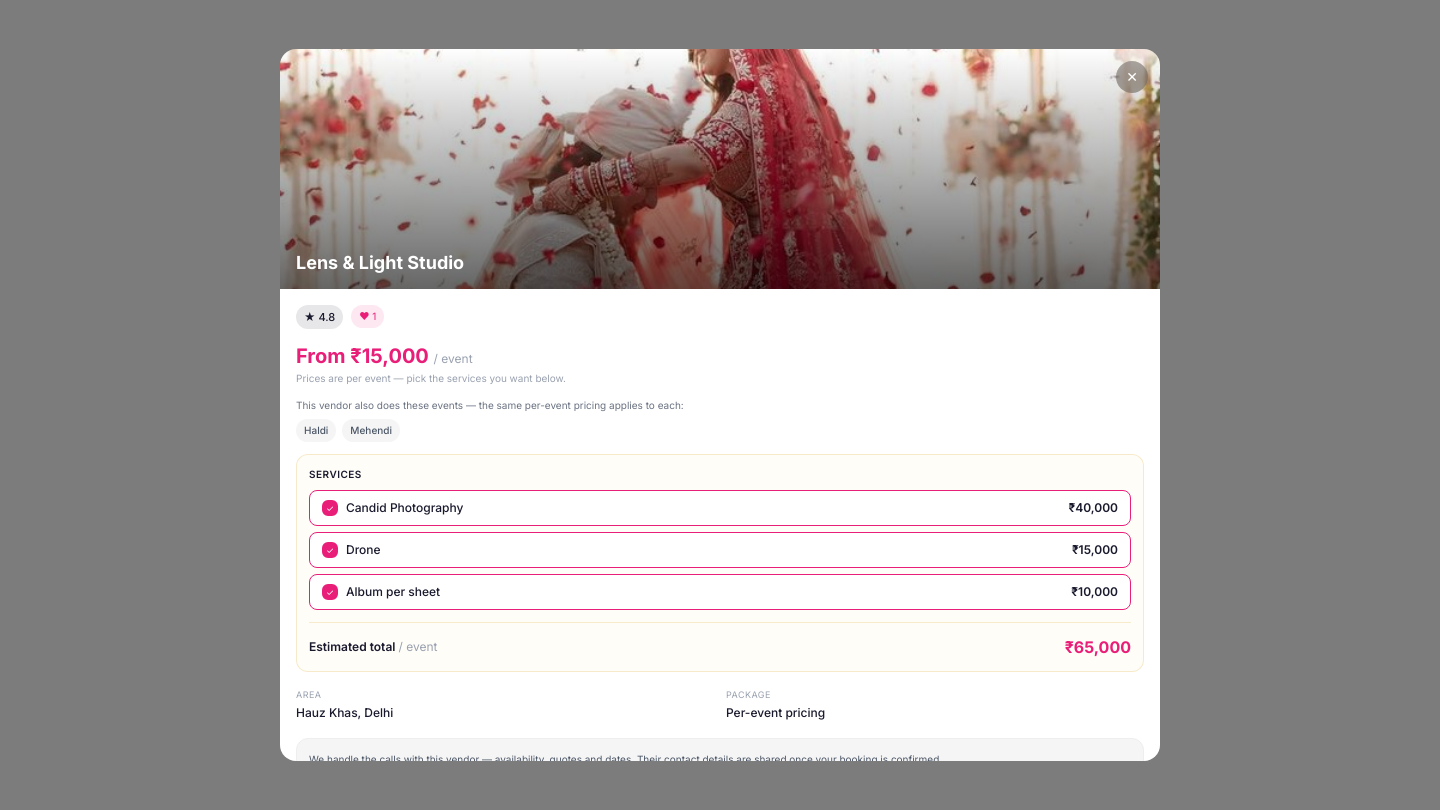
Test case: Photography event-package render (couple side) › deselecting a service lowers the total
Click the text "Candid Photography" at {"x": 405, "y": 508}, box top-left (346, 499), bottom-right (464, 517)
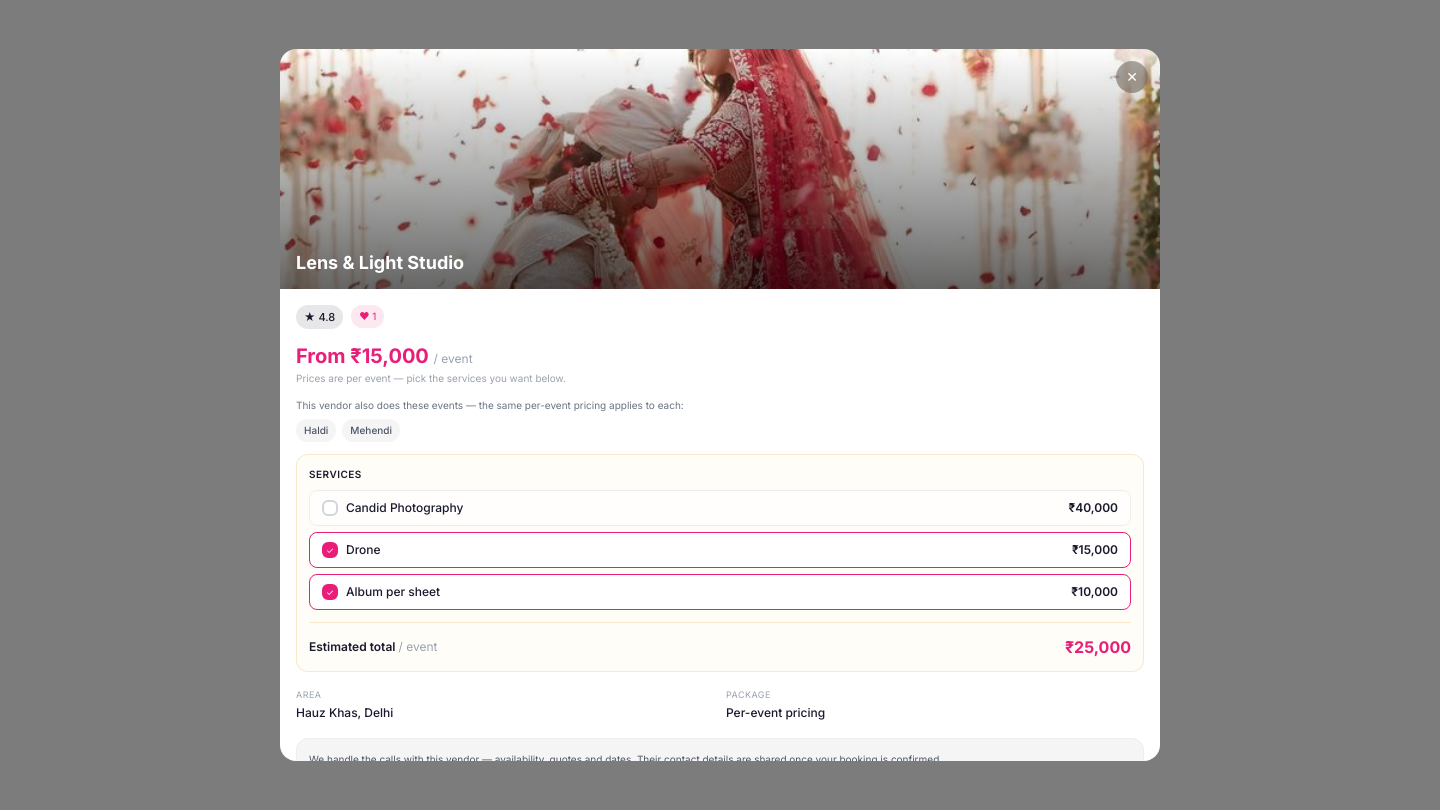
expect the text "₹25,000" is shown: met, box top-left (1065, 635), bottom-right (1131, 659)
